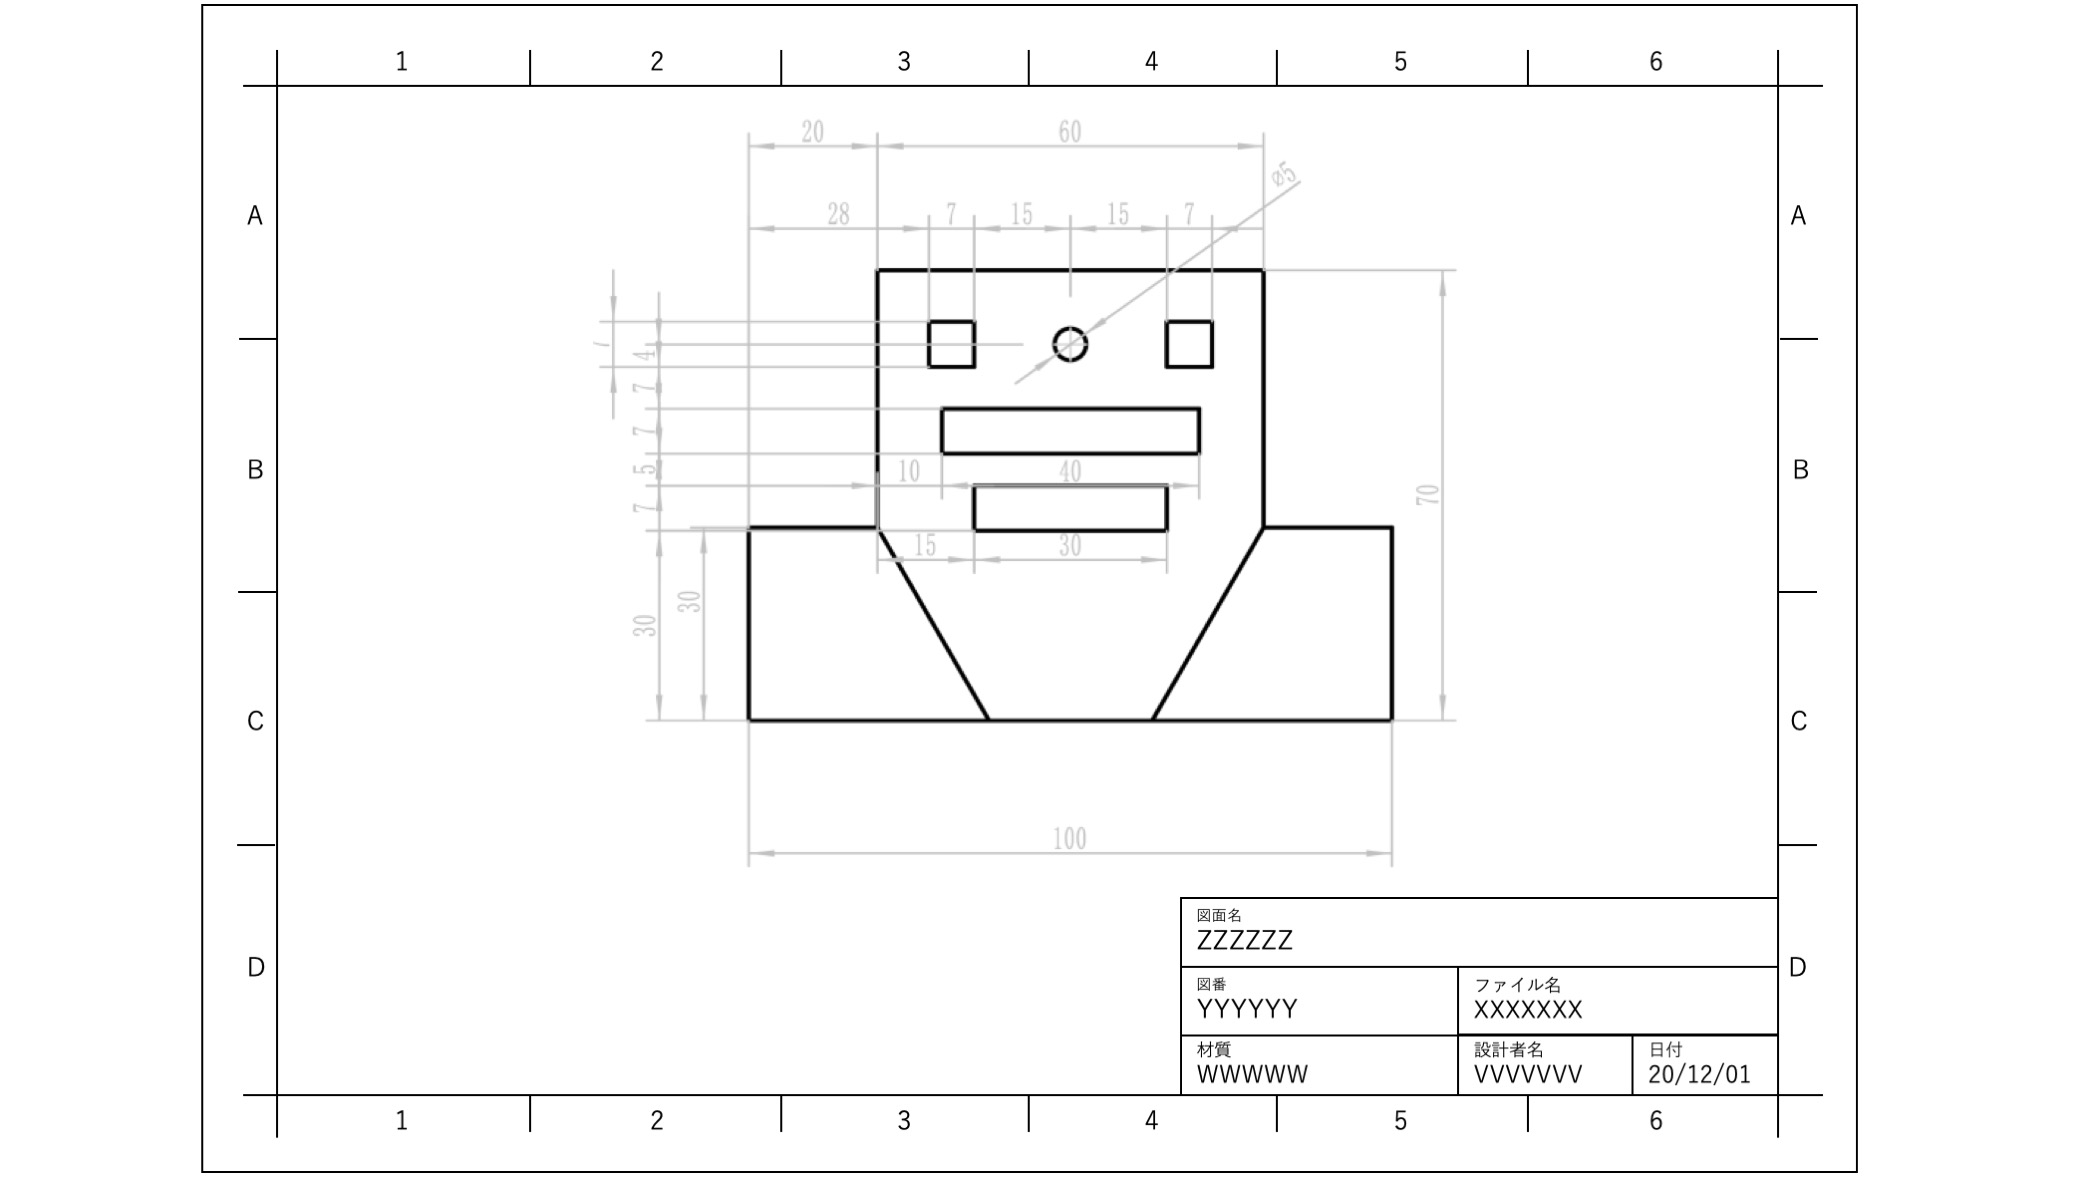circle: (1053, 319, 1090, 369)
rectangle: (935, 397, 1214, 466), (963, 477, 1183, 534), (1160, 311, 1225, 381), (917, 311, 982, 372)
